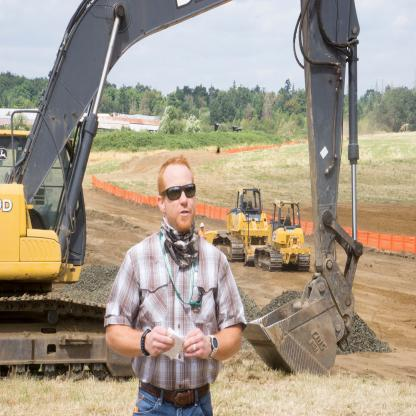person: (105, 156, 245, 416)
